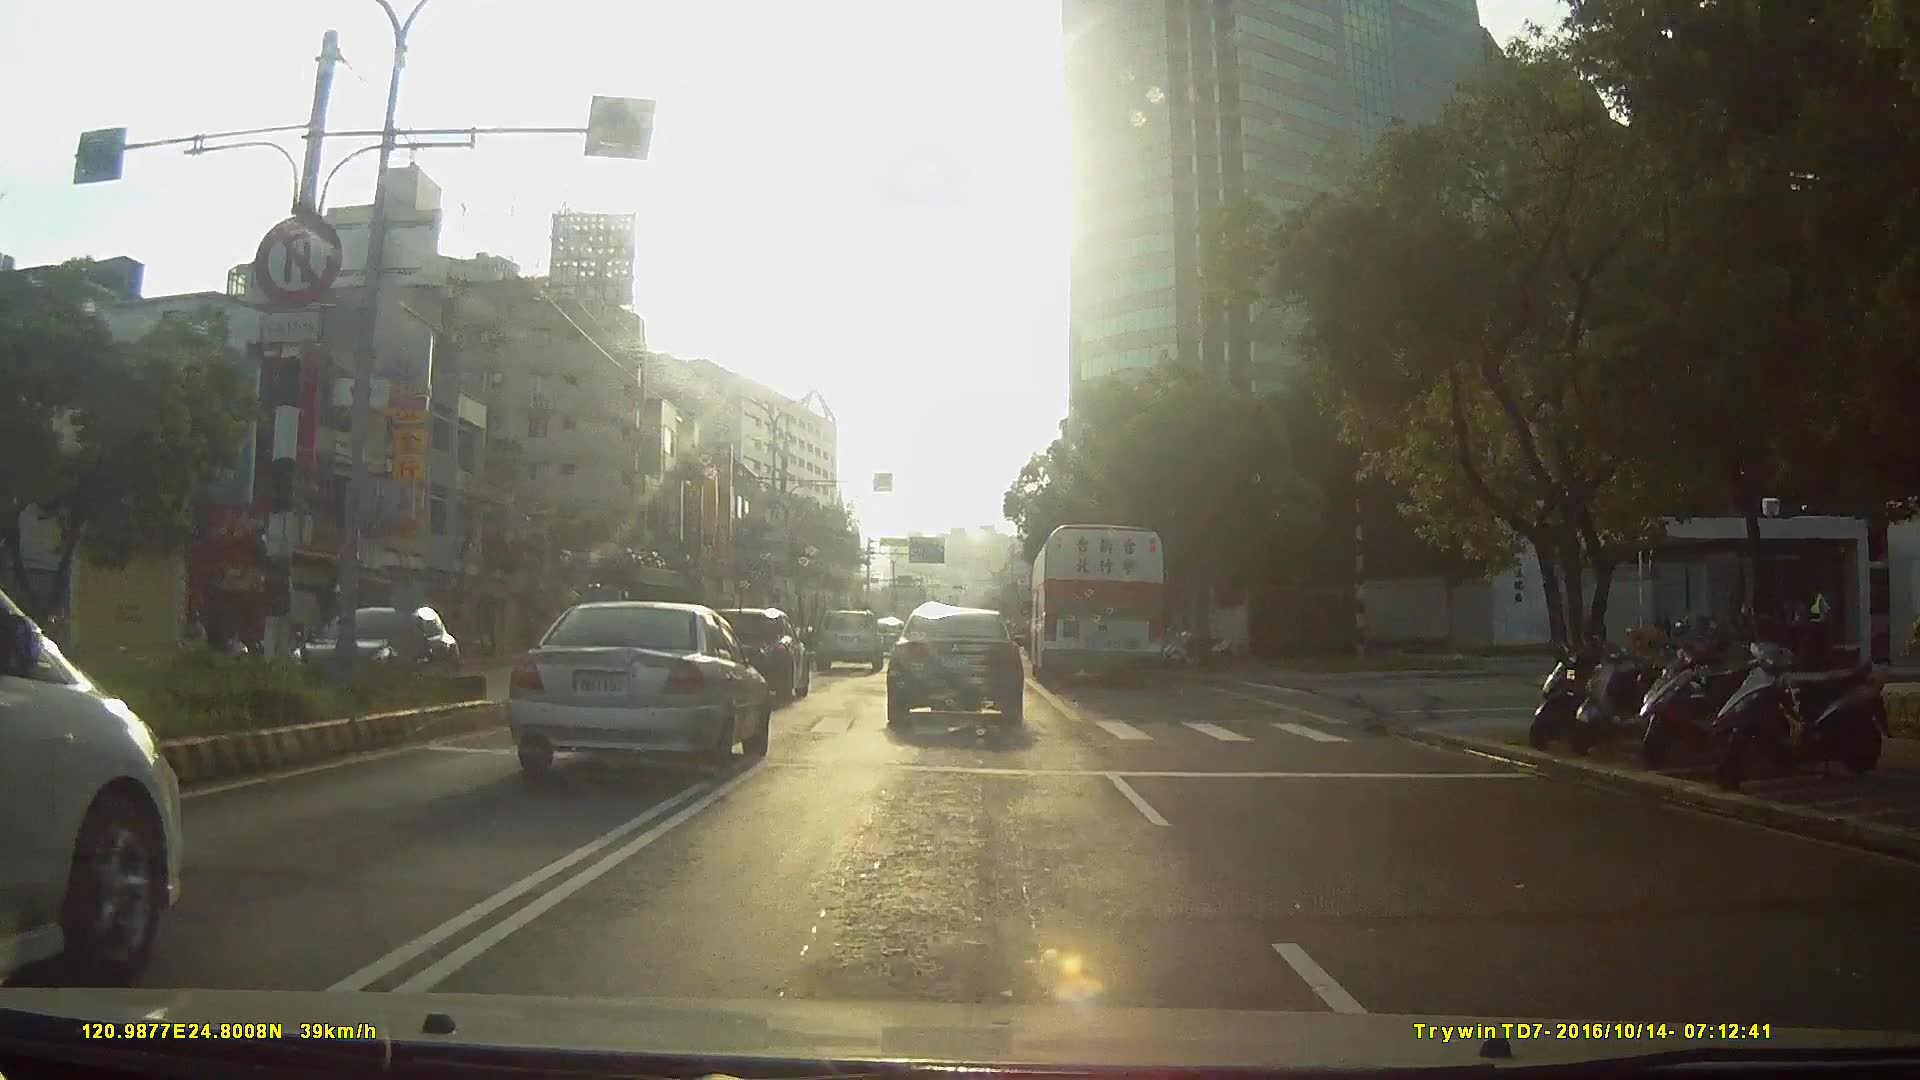vehicle: (1, 582, 191, 988), (495, 600, 767, 785), (1027, 520, 1167, 691), (282, 601, 465, 696), (885, 603, 1025, 723), (694, 607, 808, 704), (815, 607, 884, 674)
